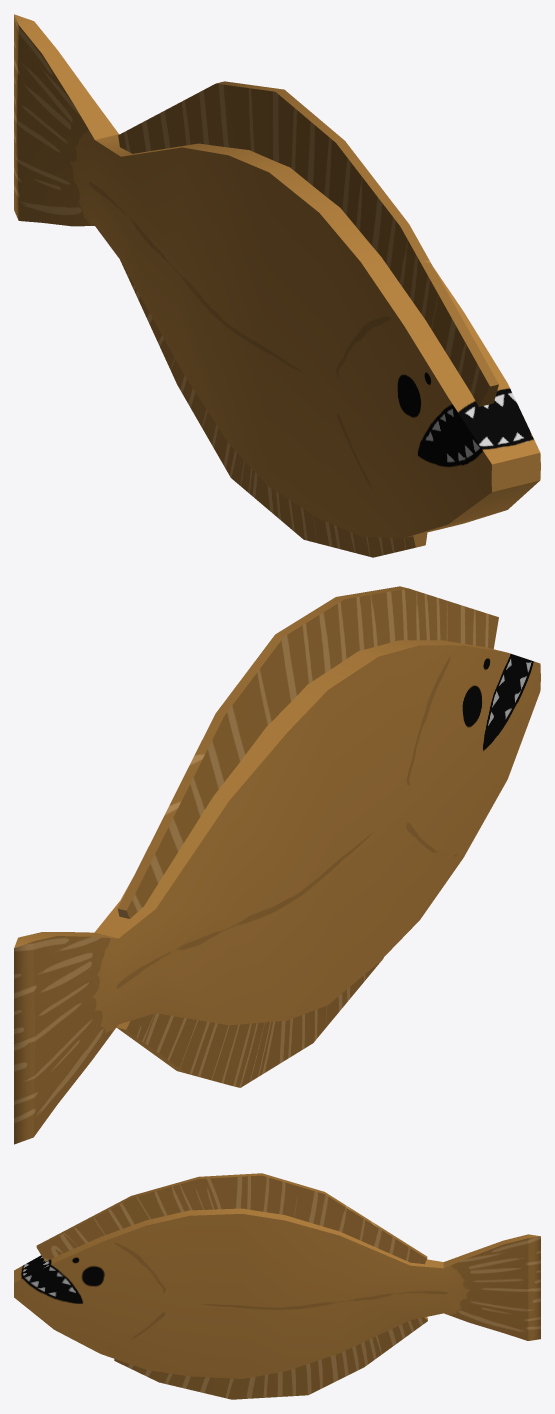
The model's file is Vis.fbx.
3 renders of one model, top to bottom at view 1: azimuth 30°, elevation 25°; view 2: azimuth 150°, elevation 25°; view 3: azimuth 270°, elevation 25°, orthographic. The views are drawn at different scales.
Visible parts, largest first — view 1: Flounder_1; view 2: Flounder_1; view 3: Flounder_1.
Boxes of the visible parts, x1=… form: Flounder_1: x1=14, y1=14, x2=540, y2=557; Flounder_1: x1=14, y1=586, x2=540, y2=1144; Flounder_1: x1=14, y1=1173, x2=540, y2=1399.
Bounding box in the file's own units: 0.2417 × 1.37 × 2.92.
